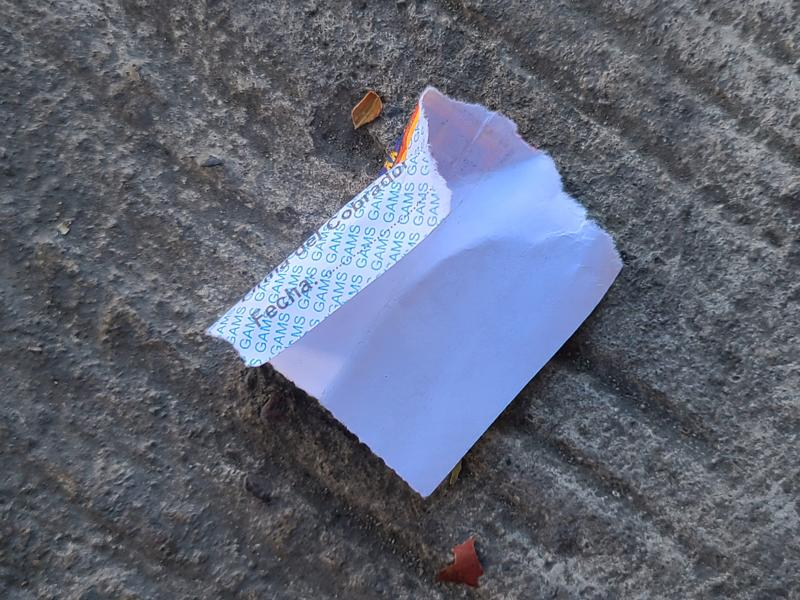papel: (203, 89, 624, 501)
